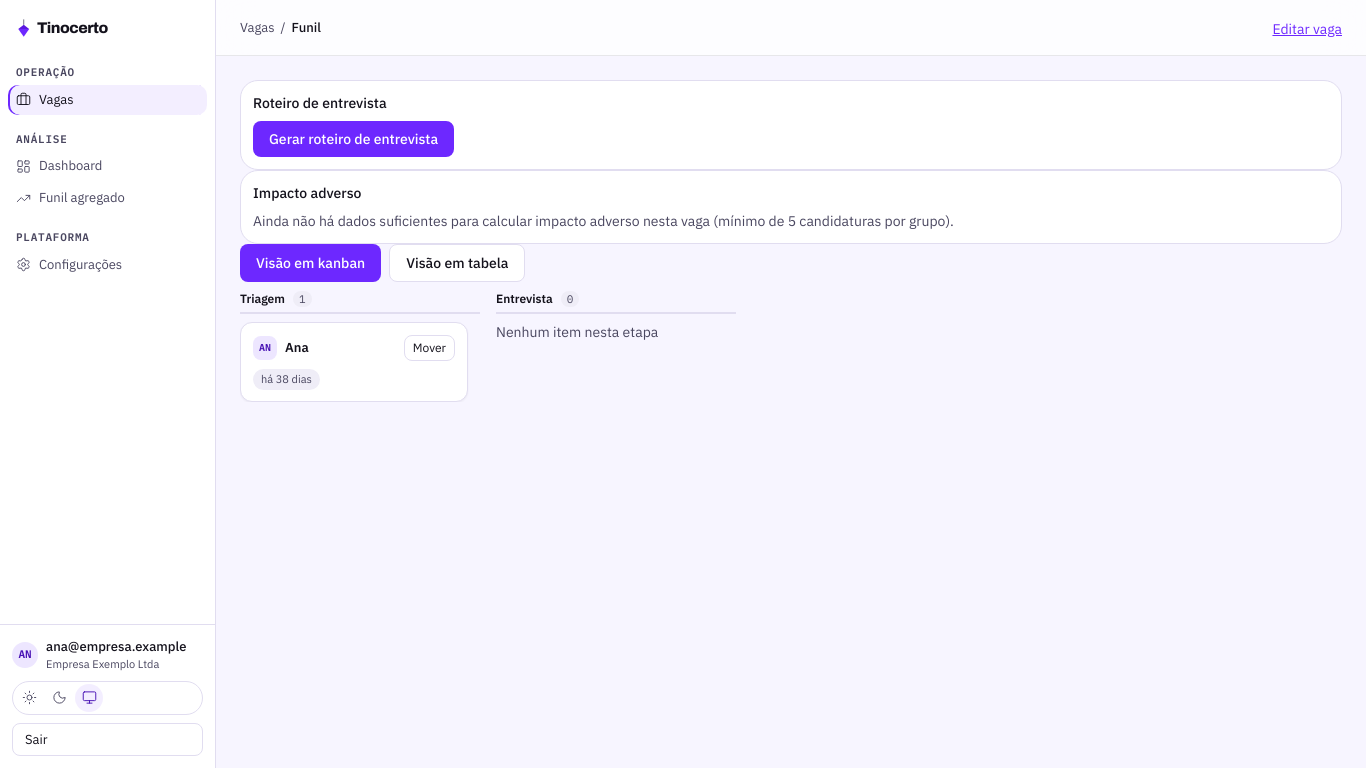
FunilPage › mostra a coluna Entrevista vazia (e como destino válido pra mover) mesmo quando o funil não traz essa chave
Check: the link "Ana" is shown, box [285, 339, 309, 356]
Check: the heading "Entrevista" is shown, box [496, 290, 553, 308]
Click the button with aria-label "mover ana". click: [429, 348]
box: [404, 335, 455, 361]
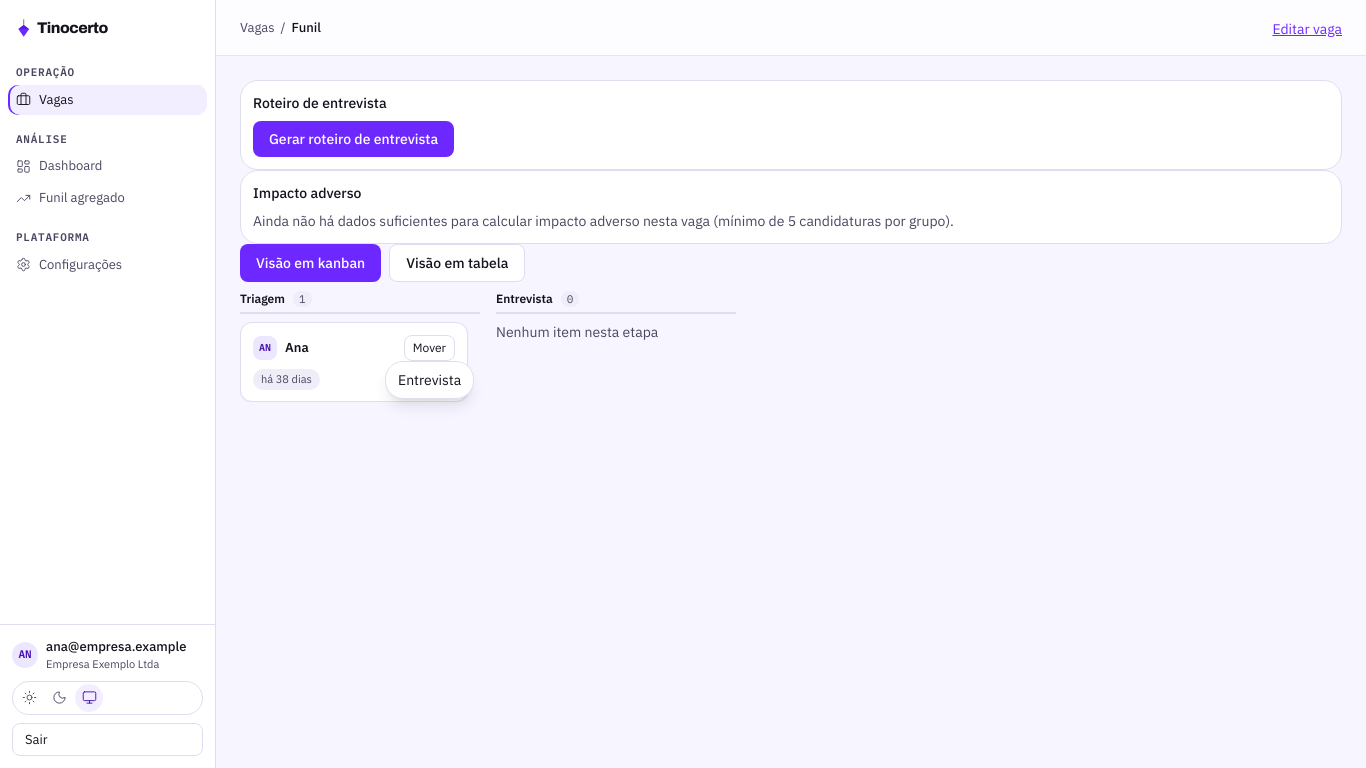
Check: the menu item "Entrevista" is shown, box [398, 371, 461, 389]
